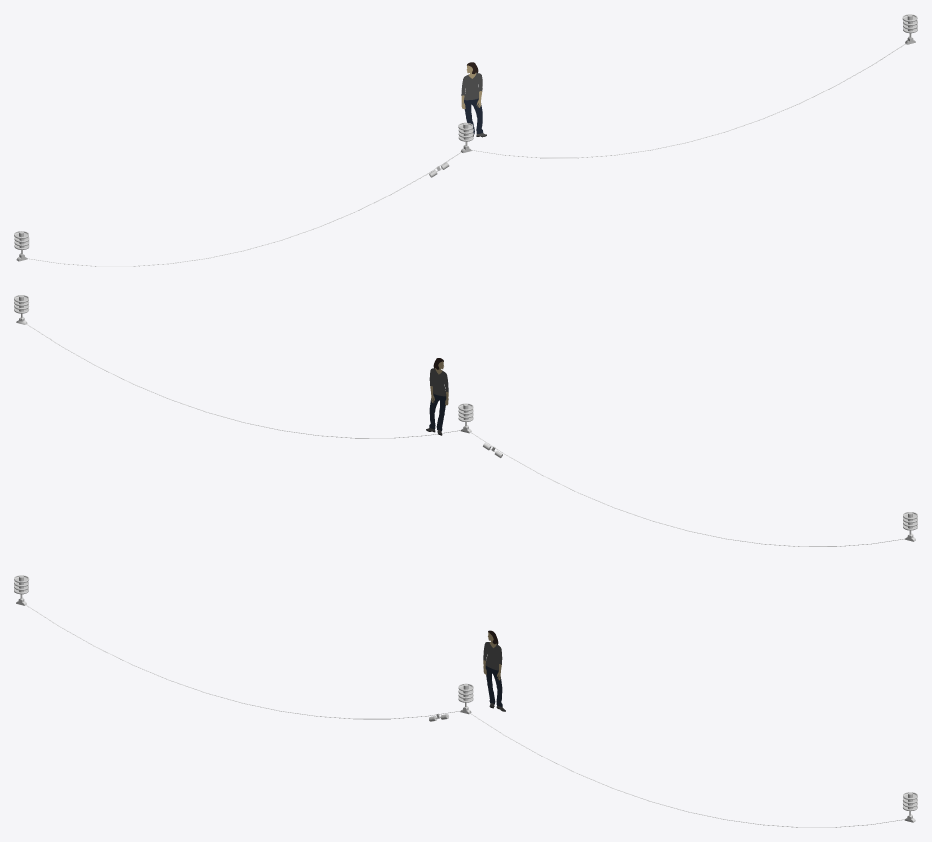
Rendered from power_line9.dae.
3 views of the same model, one above another, from view 1: azimuth 30°, elevation 25°; view 2: azimuth 150°, elevation 25°; view 3: azimuth 330°, elevation 25° (orthographic).
Visible parts, largest first — view 1: skpc56f; view 2: skpc56f; view 3: skpc56f.
Part boxes in pixels (x1,y1,x2,y2): skpc56f: (472,43,905,158); skpc56f: (26,323,460,438); skpc56f: (26,605,460,719).
Bounding box in the file's own units: 814 × 23.15 × 106.
